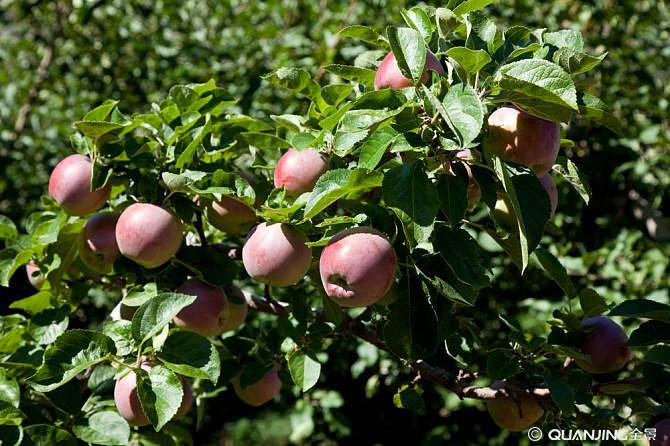apple: (318, 231, 398, 315), (487, 107, 560, 175), (114, 201, 184, 267), (242, 220, 310, 286), (49, 152, 111, 215), (179, 277, 242, 338), (573, 315, 631, 375), (78, 211, 122, 275), (274, 147, 329, 197), (374, 51, 413, 91)
